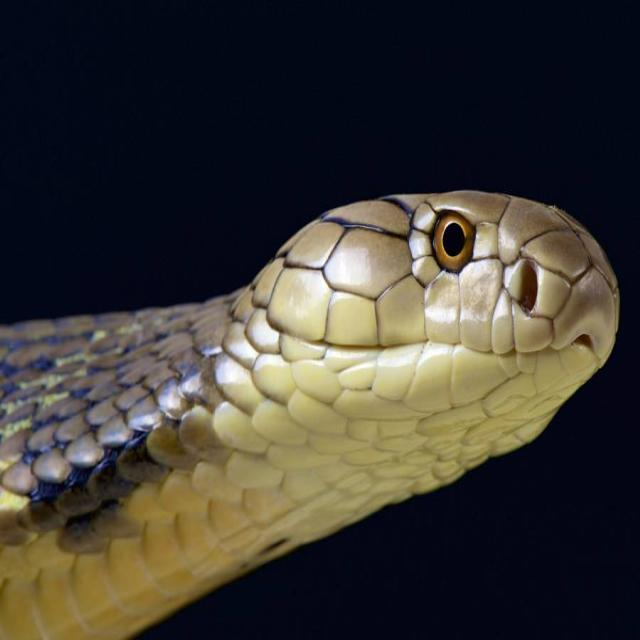Snake: (0, 185, 620, 638)
